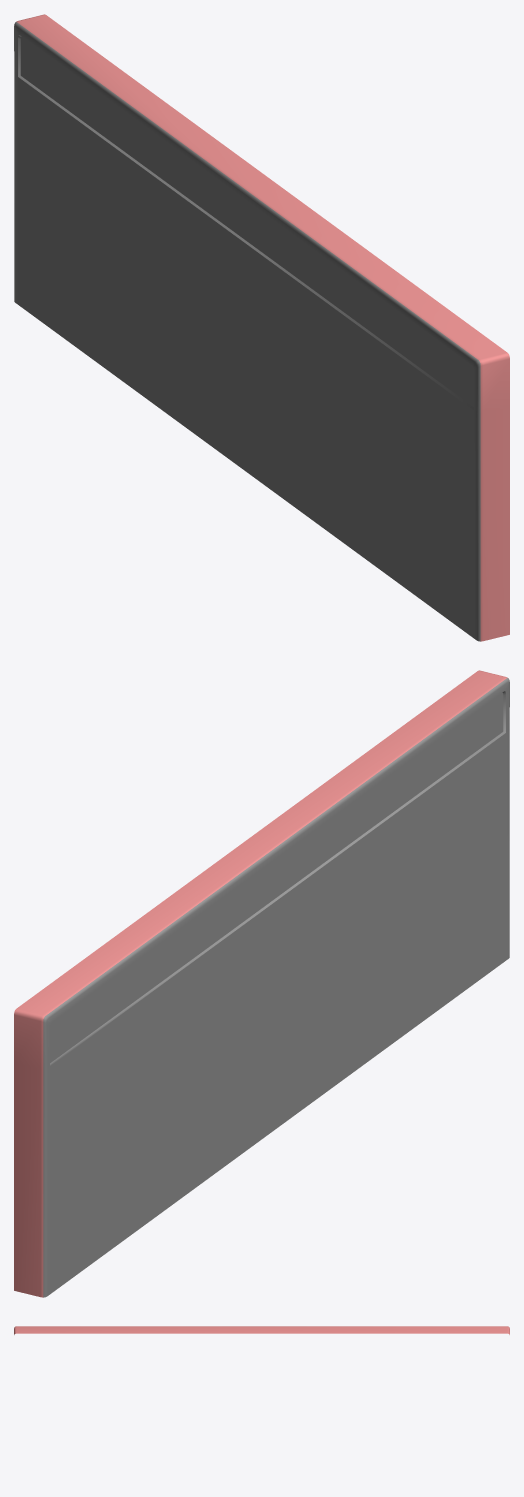
The model's file is CHN_Field_WallBlocks.gltf.
3 renders of one model, top to bottom at view 1: azimuth 30°, elevation 25°; view 2: azimuth 150°, elevation 25°; view 3: azimuth 270°, elevation 25°, orthographic. The views are drawn at different scales.
Parts seen in each view (by area): view 1: CHN_Field_WallBlocks; view 2: CHN_Field_WallBlocks; view 3: CHN_Field_WallBlocks.
Part boxes in pixels (x1=…): CHN_Field_WallBlocks: x1=14, y1=14, x2=509, y2=641; CHN_Field_WallBlocks: x1=14, y1=670, x2=509, y2=1297; CHN_Field_WallBlocks: x1=14, y1=1326, x2=509, y2=1334.
Bounding box in the file's own units: 0.4107 × 3.56 × 10.74.
